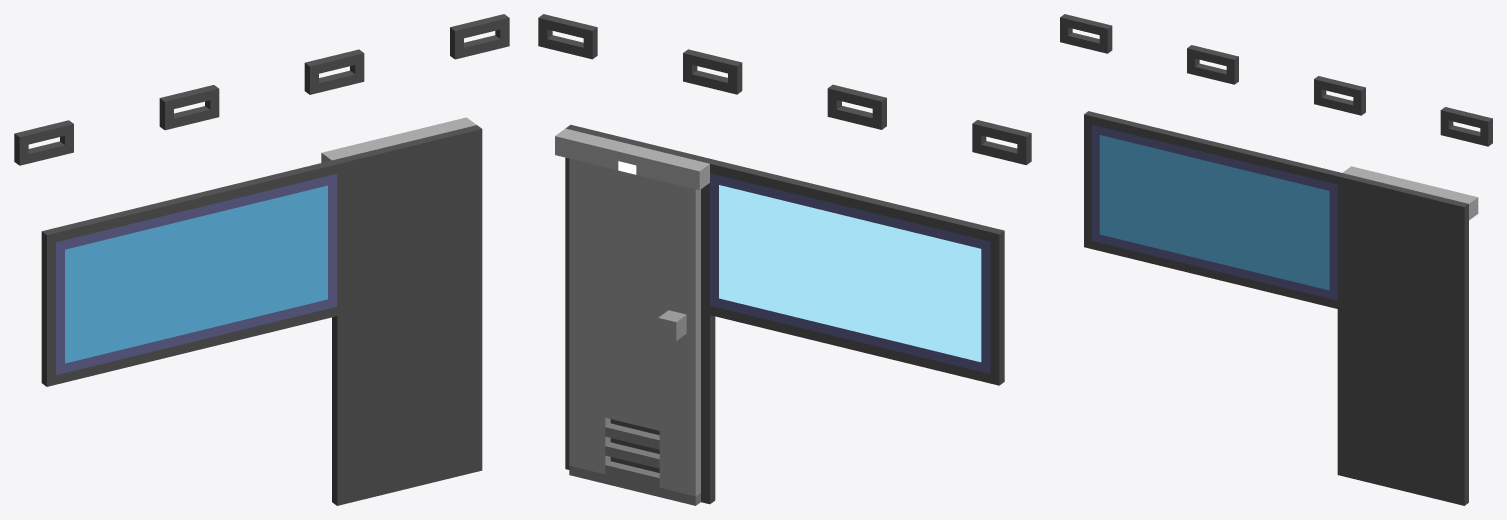
File: backdoorFive.glb
The picture shows the model from 3 angles, left to right: view 1: azimuth 30°, elevation 25°; view 2: azimuth 150°, elevation 25°; view 3: azimuth 330°, elevation 25°; orthographic projection. The views are drawn at different scales.
Parts seen in each view (by area): view 1: ObjObject; view 2: ObjObject; view 3: ObjObject.
Part boxes in pixels (<box>): ObjObject: <box>14,14,509,505</box>; ObjObject: <box>538,14,1031,505</box>; ObjObject: <box>1060,14,1492,505</box>.
Size of the model in its own units: 5.4 by 4.7 by 0.4.
Materials: 3 (1 with a texture image).
